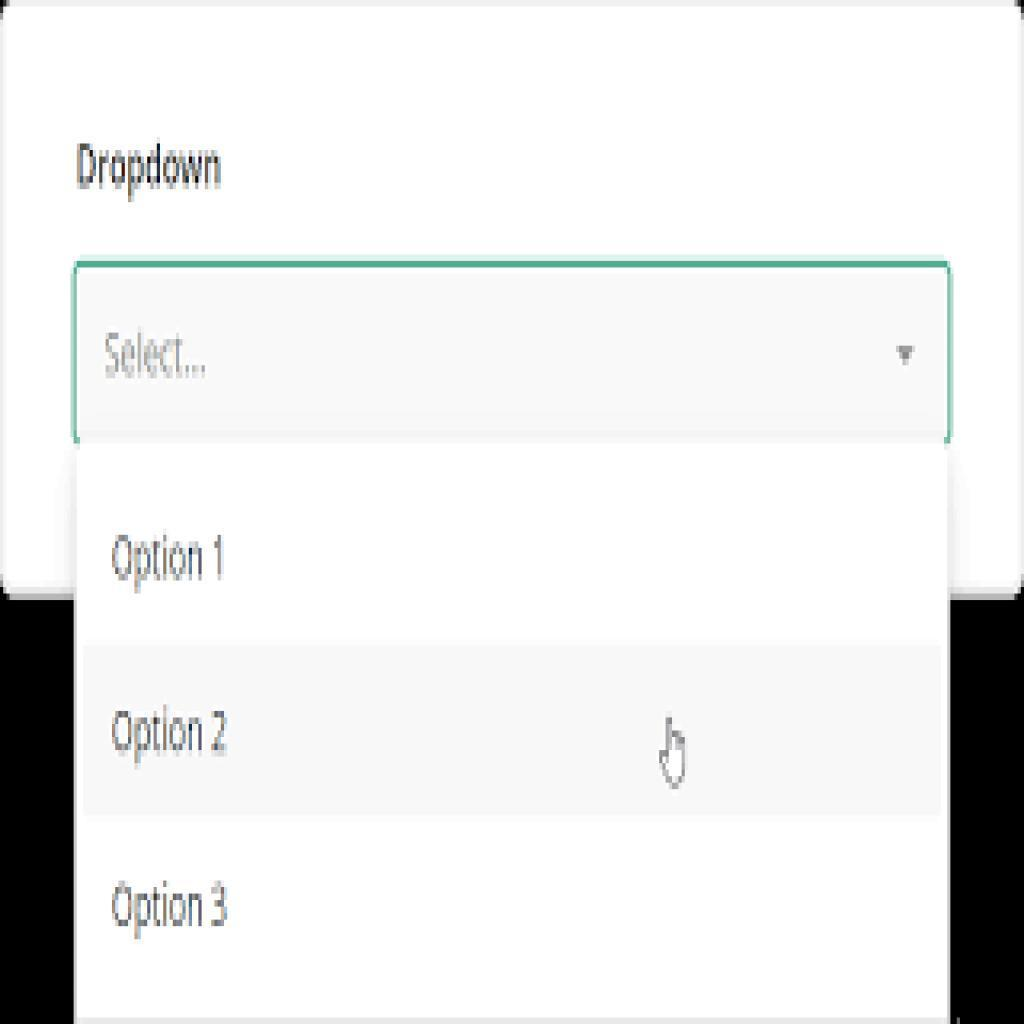dropdown: (72, 263, 945, 440)
